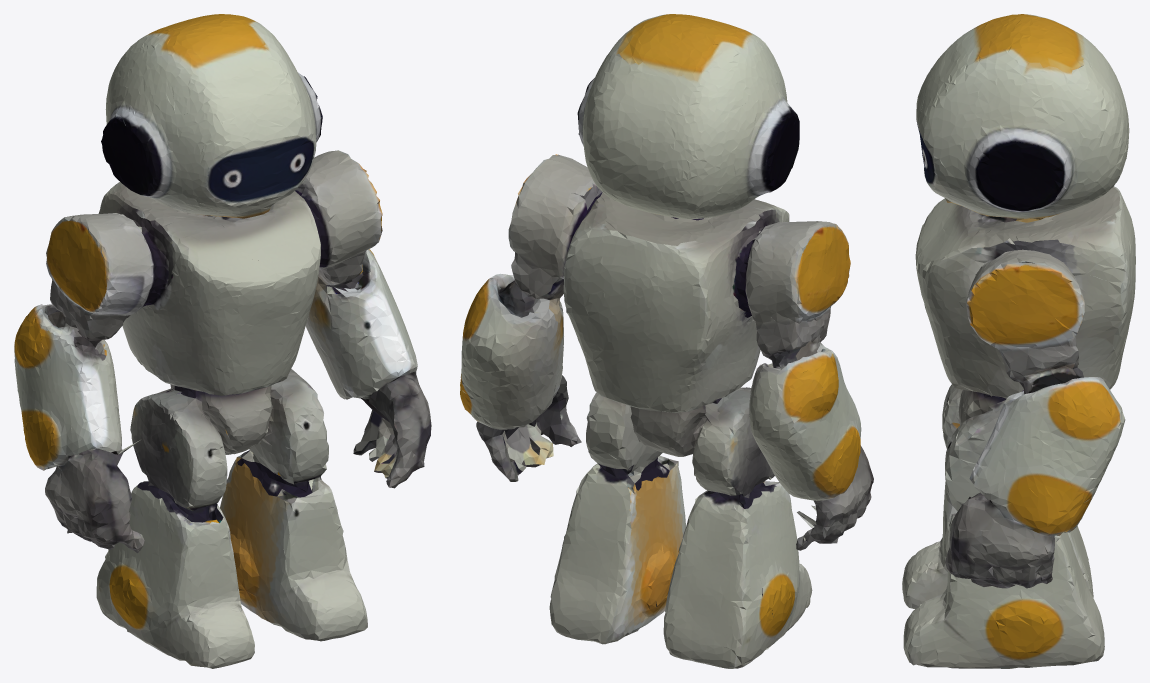
Rendered from robot.glb.
The picture shows the model from 3 angles, left to right: view 1: azimuth 30°, elevation 25°; view 2: azimuth 150°, elevation 25°; view 3: azimuth 270°, elevation 25°; orthographic projection. The views are drawn at different scales.
Parts seen in each view (by area): view 1: geometry_0; view 2: geometry_0; view 3: geometry_0.
Boxes of the visible parts, x1,y1,x2,y2 form: geometry_0: [14, 14, 431, 668]; geometry_0: [460, 14, 873, 668]; geometry_0: [902, 14, 1135, 668].
Bounding box in the file's own units: 1.09 × 1.65 × 0.5924.
1 material, 1 textured.
